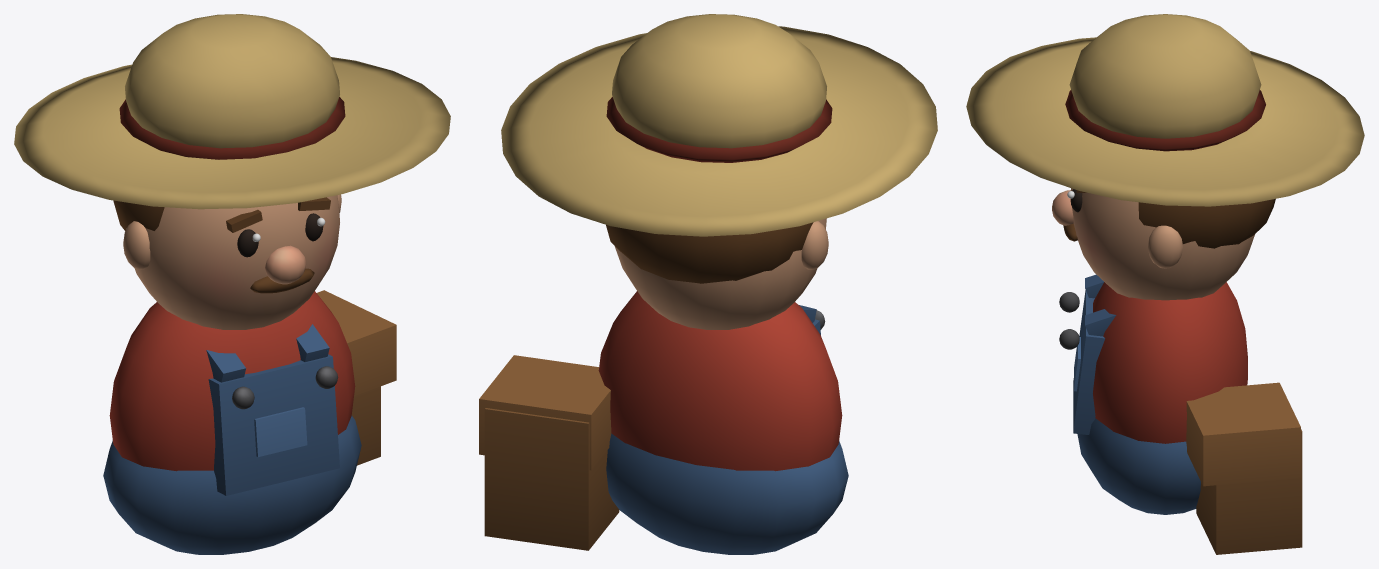
Rendered from golden-gardener.glb.
3 renders of one model, left to right at view 1: azimuth 30°, elevation 25°; view 2: azimuth 150°, elevation 25°; view 3: azimuth 270°, elevation 25°, orthographic. The views are drawn at different scales.
Visible parts, largest first — view 1: golden-gardener; view 2: golden-gardener; view 3: golden-gardener.
Part boxes in pixels (<box>): golden-gardener: <box>14,14,450,554</box>; golden-gardener: <box>479,14,937,554</box>; golden-gardener: <box>966,14,1364,554</box>.
Bounding box in the file's own units: 1 × 1.3 × 0.9968.
